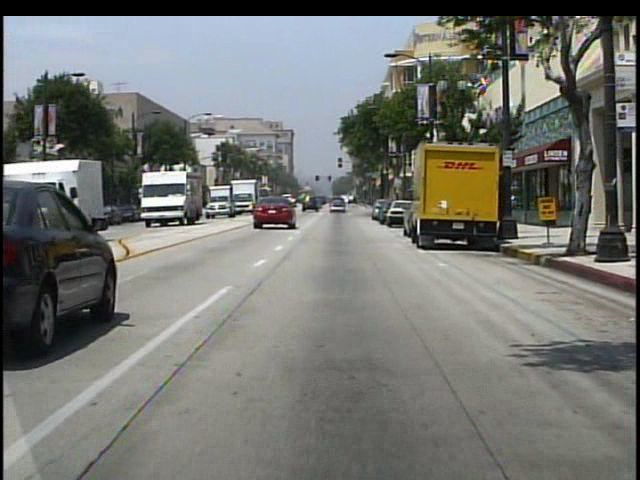person: (586, 180, 598, 241)
